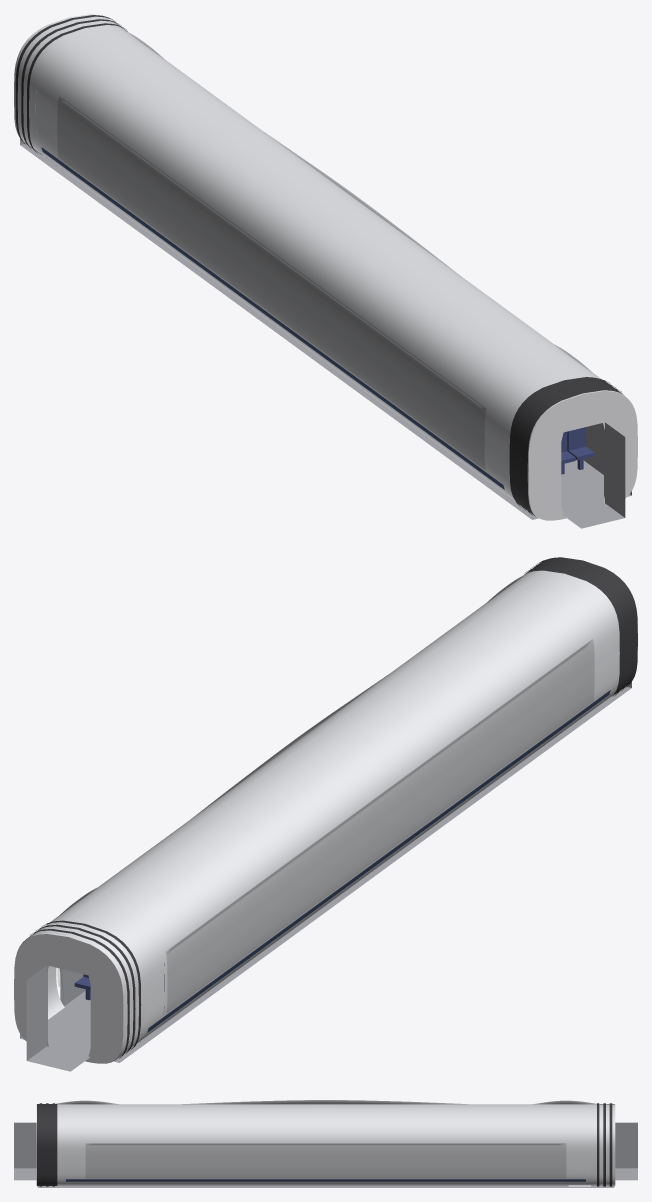
File: tgv_voiture.glb
3 views of the same model, one above another, from view 1: azimuth 30°, elevation 25°; view 2: azimuth 150°, elevation 25°; view 3: azimuth 270°, elevation 25° (orthographic). The views are drawn at different scales.
Parts seen in each view (by area): view 1: TGV_voiture; view 2: TGV_voiture; view 3: TGV_voiture.
Part boxes in pixels (left/top/right/bottom): TGV_voiture: left=14, top=14, right=637, bottom=528; TGV_voiture: left=14, top=557, right=637, bottom=1071; TGV_voiture: left=14, top=1100, right=637, bottom=1187.
Size of the model in its own units: 2.97 by 3.33 by 25.44.
